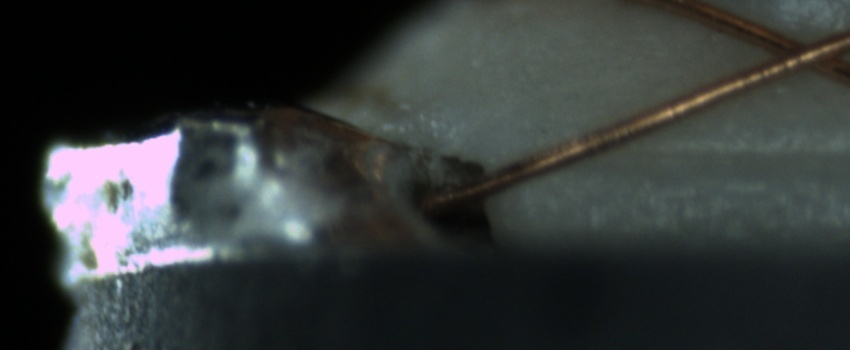CL: (747, 24, 847, 85)
DL: (572, 120, 842, 187)
